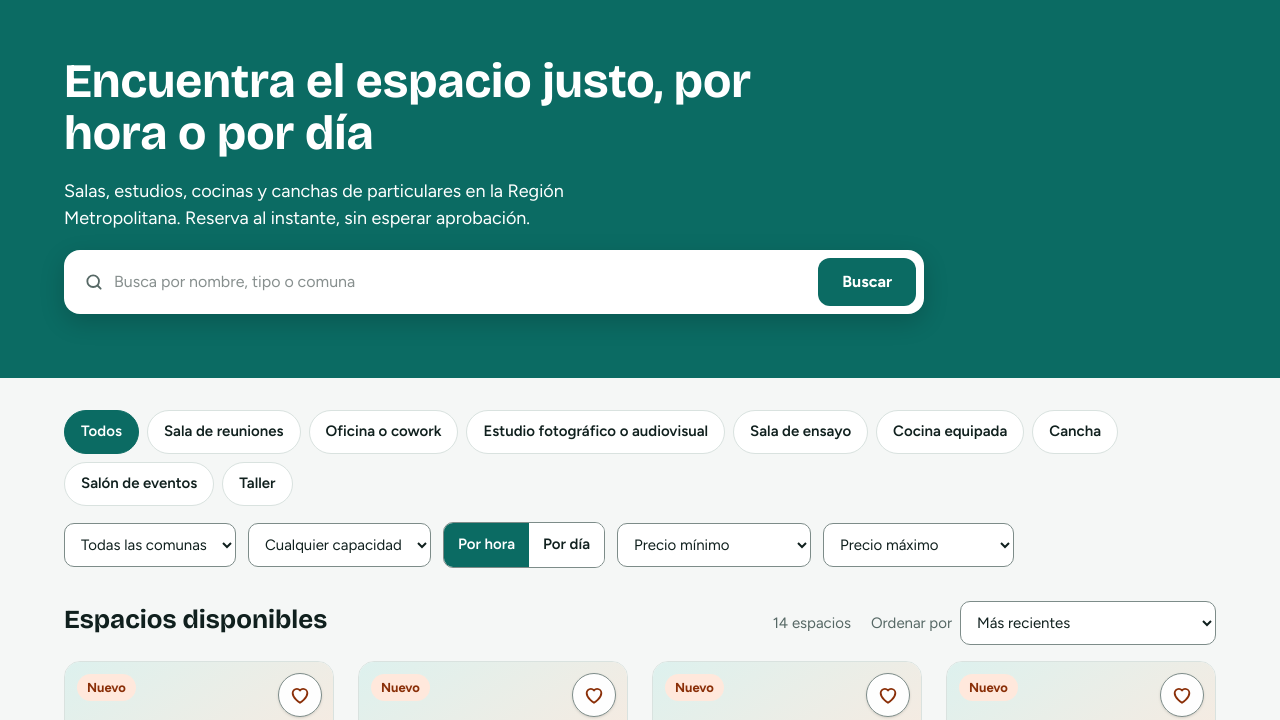
Scenario: corazón de favoritos (BU-08) › con sesión › si el servidor lo rechaza, deshace el cambio y avisa
Click the button named "Guardar en favoritos: Sala Alameda": {"x": 300, "y": 695} x1=278 y1=673 x2=322 y2=717
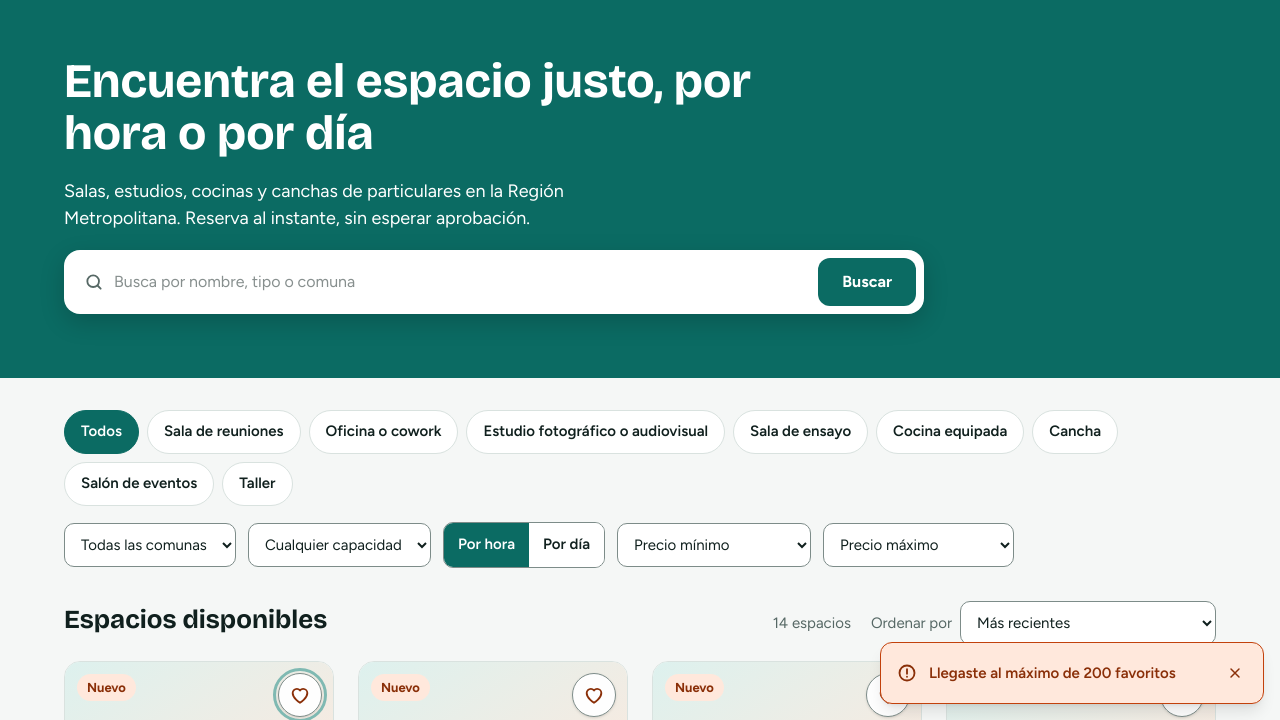
Now the text "Llegaste al máximo de 200 favoritos" is shown, box x1=929 y1=662 x2=1207 y2=684
